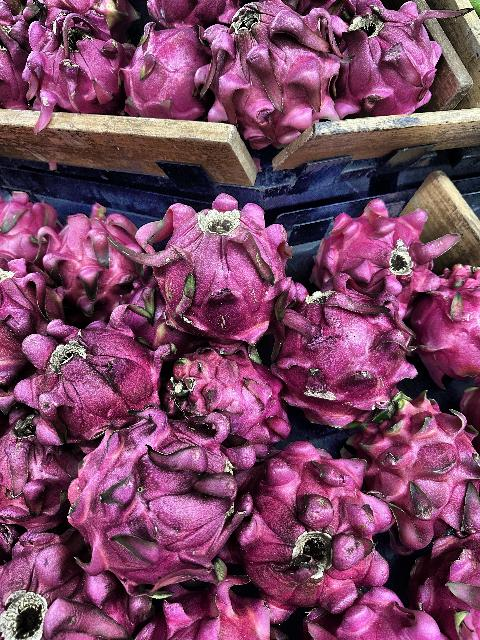buah-naga-matang: (74, 419, 258, 593), (134, 182, 292, 346), (230, 448, 390, 608), (193, 0, 343, 142), (264, 284, 419, 418), (336, 390, 480, 526), (305, 180, 439, 312), (18, 319, 160, 429), (15, 11, 126, 135), (167, 346, 292, 450), (340, 0, 444, 120), (38, 209, 146, 309), (110, 8, 207, 114), (0, 260, 74, 384), (414, 270, 480, 392)
